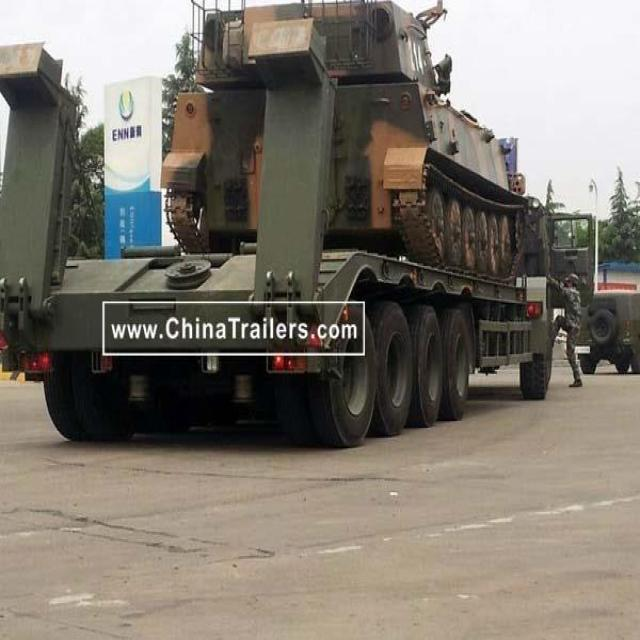Tanks: (167, 1, 541, 252)
